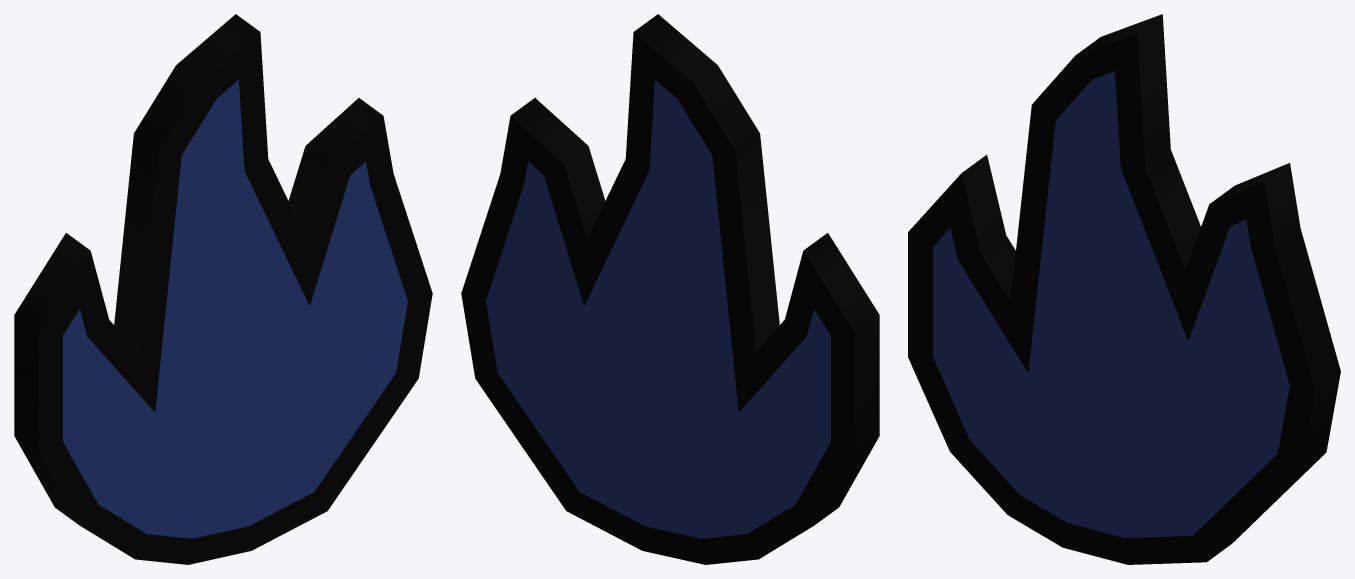
File: FirePowerUP.fbx
3 views of the same model, side by side, from view 1: azimuth 30°, elevation 25°; view 2: azimuth 150°, elevation 25°; view 3: azimuth 330°, elevation 25° (orthographic). The views are drawn at different scales.
Visible parts, largest first — view 1: FirePowerUP; view 2: FirePowerUP; view 3: FirePowerUP.
Boxes of the visible parts, box(x1,y1,x2,y2) form: FirePowerUP: box(14, 14, 432, 564); FirePowerUP: box(461, 14, 879, 564); FirePowerUP: box(908, 14, 1340, 564).
Size of the model in its own units: 205 by 256 by 22.14.
